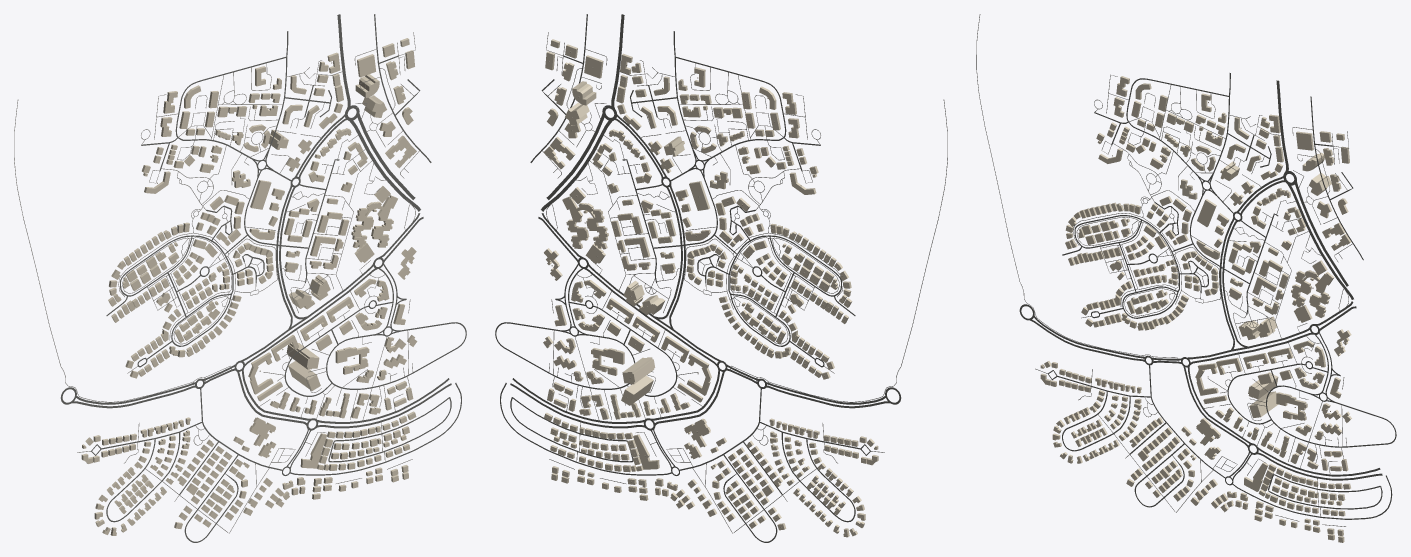
File: historic-palestine-06_18_3476_3123.glb
3 renders of one model, left to right at view 1: azimuth 30°, elevation 25°; view 2: azimuth 150°, elevation 25°; view 3: azimuth 330°, elevation 25°, orthographic. The views are drawn at different scales.
Visible parts, largest first — view 1: Building_.013, Building_.461, Road יוסף בורג.004; view 2: Building_.013, Building_.461, Building_.463; view 3: Building_.013, Building_.461.
Part boxes in pixels (x1,y1,x2,y2): Building_.013: [351, 195, 397, 247]; Building_.461: [335, 346, 369, 374]; Road יוסף בורג.004: [326, 322, 466, 389]; Building_.013: [562, 196, 608, 248]; Building_.461: [591, 348, 624, 375]; Building_.463: [622, 357, 655, 384]; Building_.013: [1291, 270, 1334, 317]; Building_.461: [1276, 392, 1307, 420].
Size of the model in its own units: 1210 by 1261 by 94.2.
